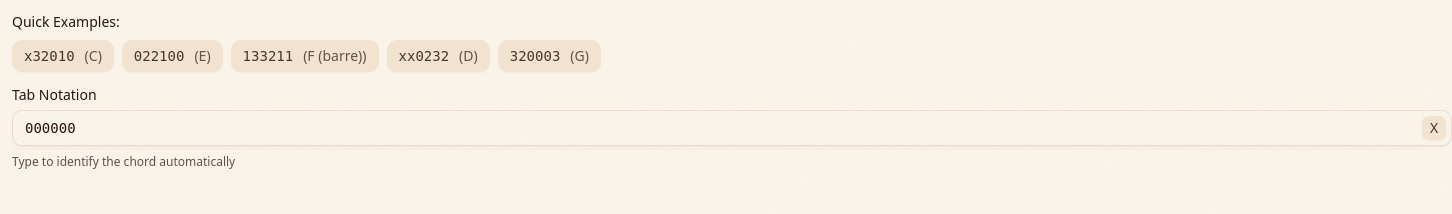
Test: Form - Error Display › should show error after blur with invalid input
// Type invalid input
Replace the text in the field with test id "tab-input" with "abc" at point(718, 128), box [13,108,1422,148]
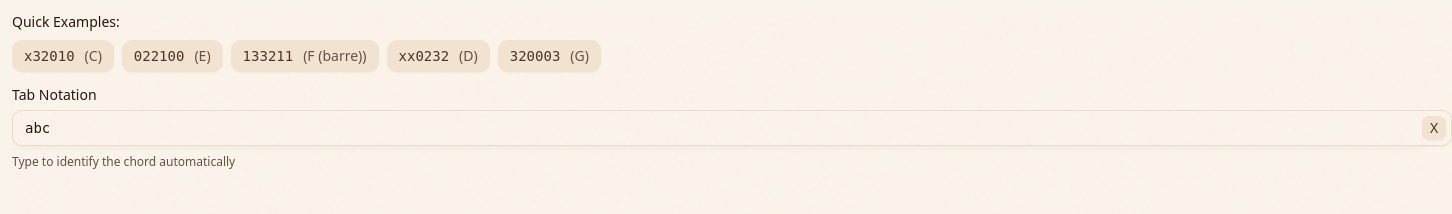
// Blur the input
Leave the field with test id "tab-input", box [13,108,1422,148]
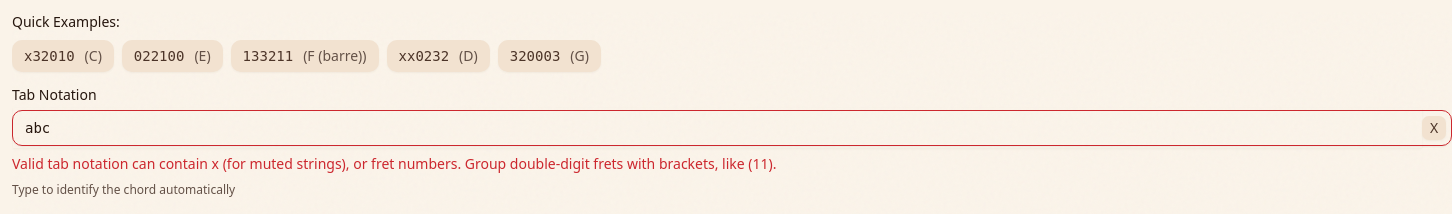
Expected: the text "Valid tab notation" is shown, [12,154,776,173]
